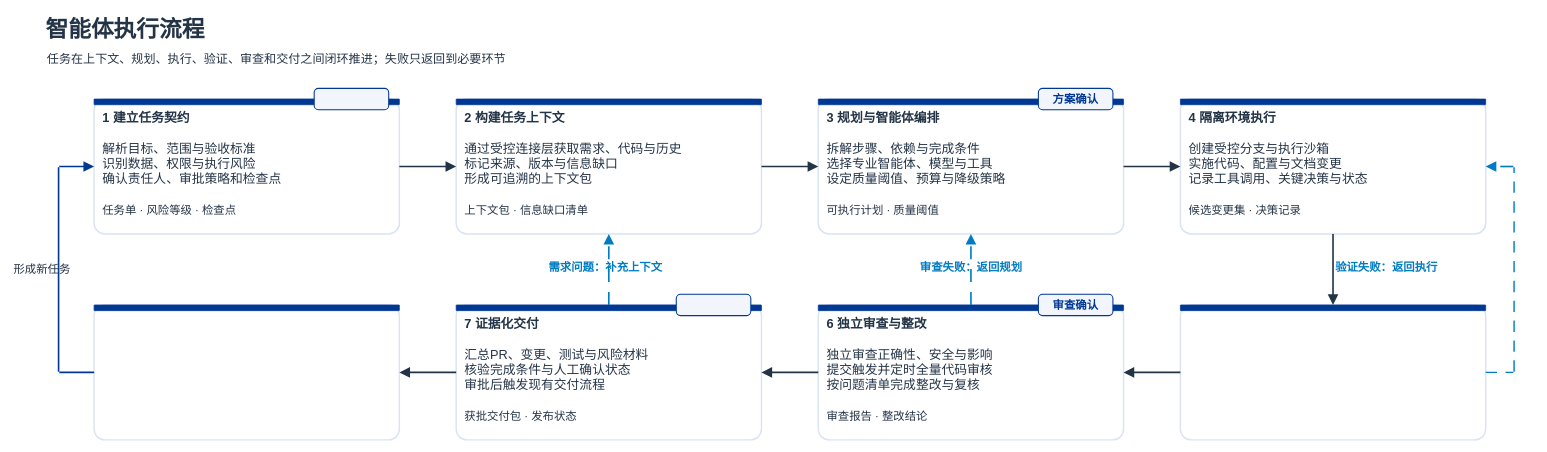
The diagram is 1547 pixels wide and 452 high, and some of its shapes have lost their labels. Here are the shapes that lost their labels. From the top down, the centre of each, then its label:
At pixel 351 99: "人工确认".
At pixel 713 304: "交付审批".
At pixel 246 372: "8 反馈与能力沉淀 处理运行反馈、异常与新需求 更新知识、规则、技能和流程模板 形成评价任务并进入下一轮 改进资产 · 下一轮任务".
At pixel 1332 372: "5 自动验证与修复 执行测试、静态与安全检查 失败自动归因、修复与复测 持续失败或越界时升级人工接管 测试报告 · 验证证据".
